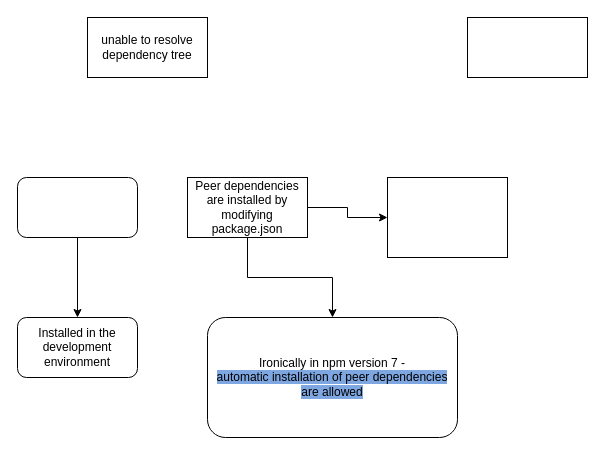
This 605x455 diagram has some shape labels left out. The box of each missing label's shape, as (x1, y1, x2, y2) in pixels:
Dev Dependencies are automatically installed on running npm install: (16, 176, 138, 238)
Peer dependency are only encountered when you are publishing your package: (386, 176, 508, 258)
